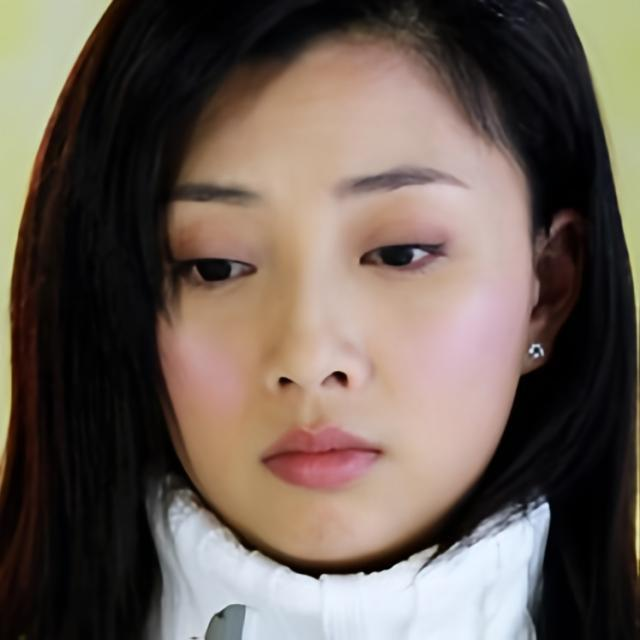sad: (153, 32, 530, 560)
